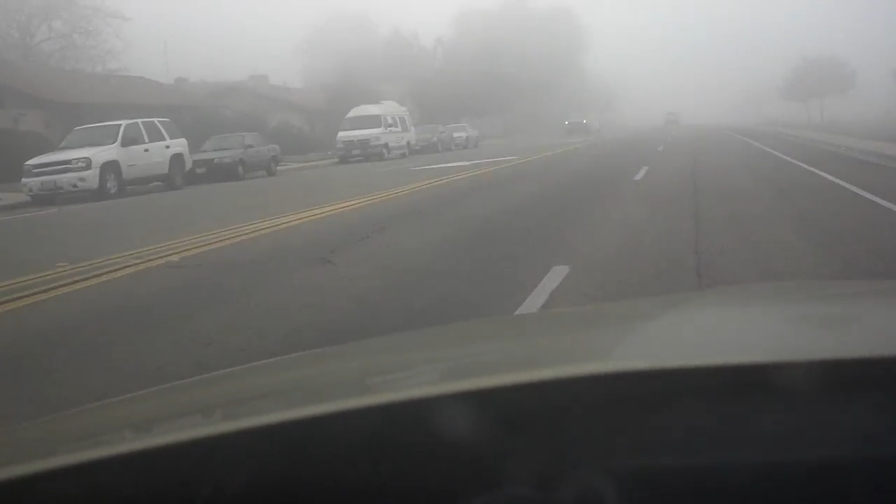car: (21, 116, 192, 204), (333, 99, 416, 162), (186, 130, 283, 178), (410, 124, 455, 151), (439, 122, 481, 149), (564, 112, 595, 134), (662, 110, 682, 126)
